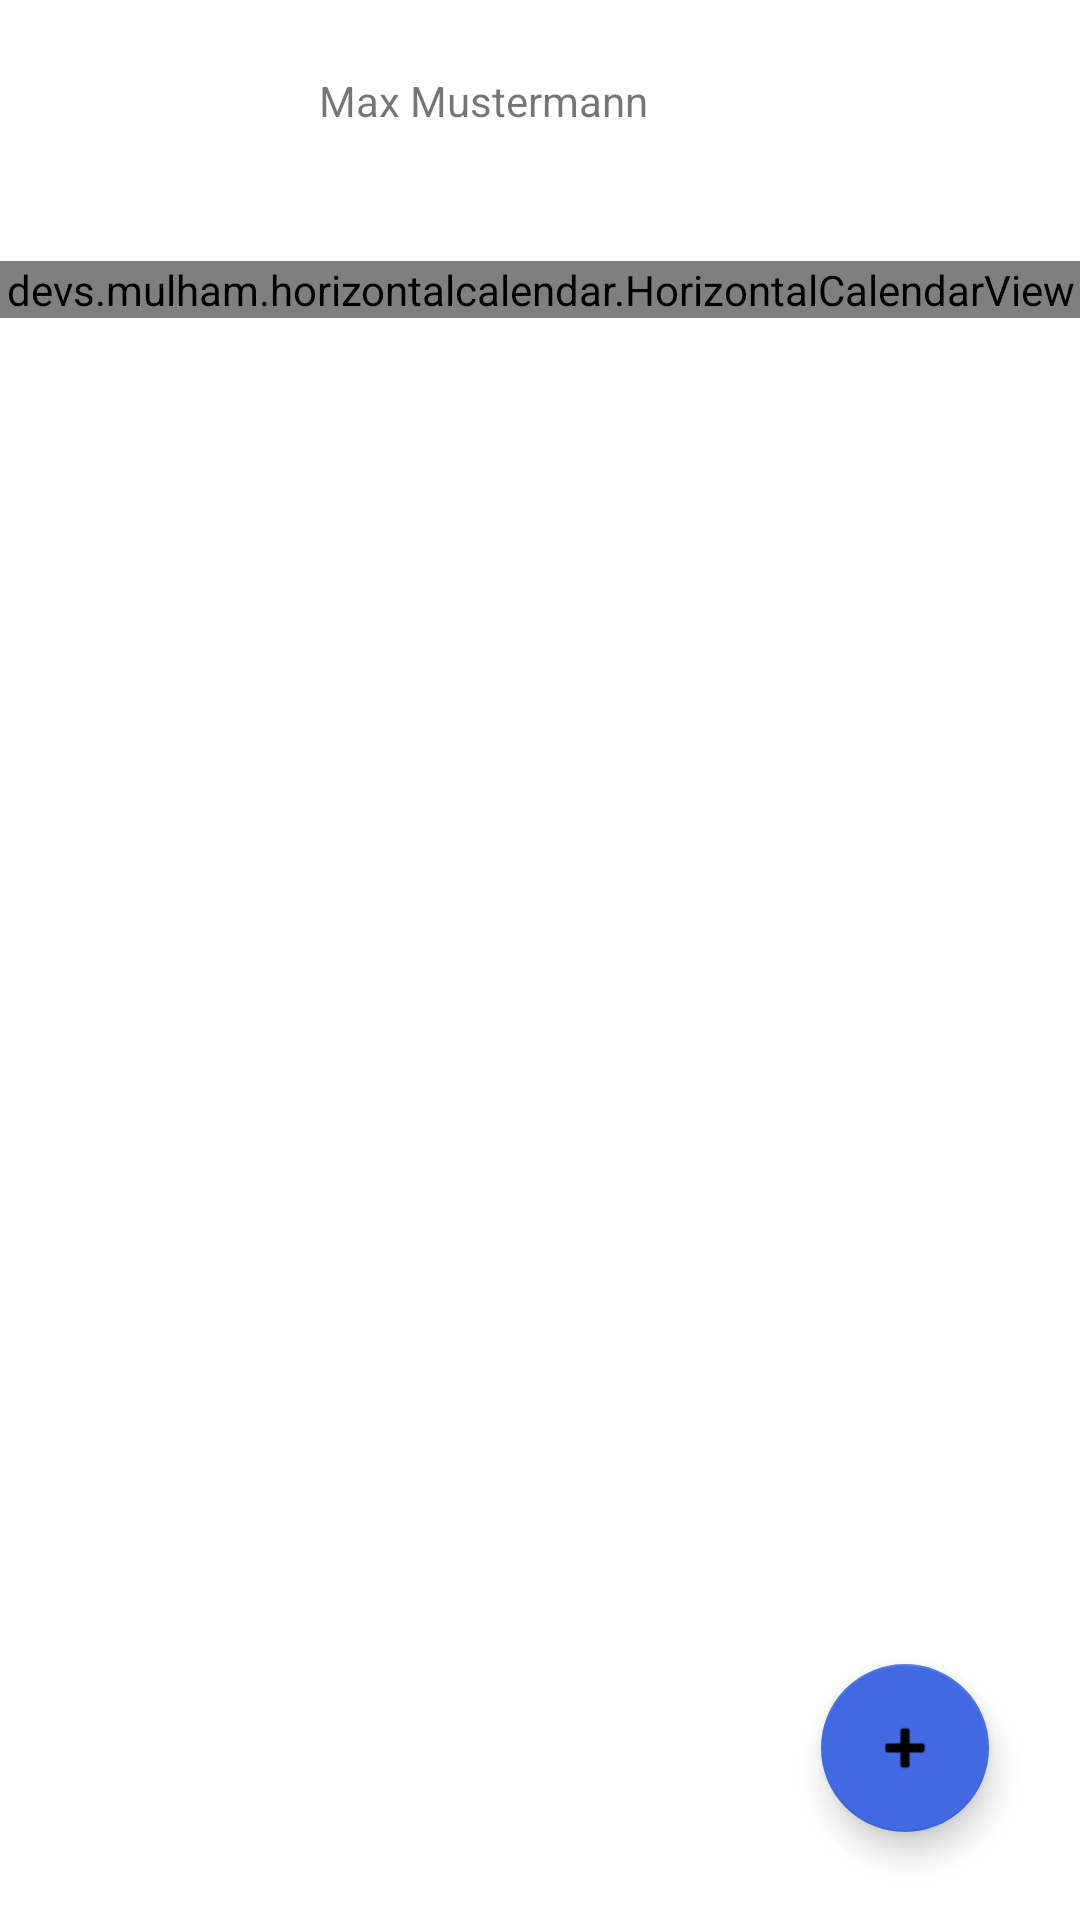

Point at icon controls on the screen. Image size 1080px x 1920px, points as (x,y).
add: (905,1748)
